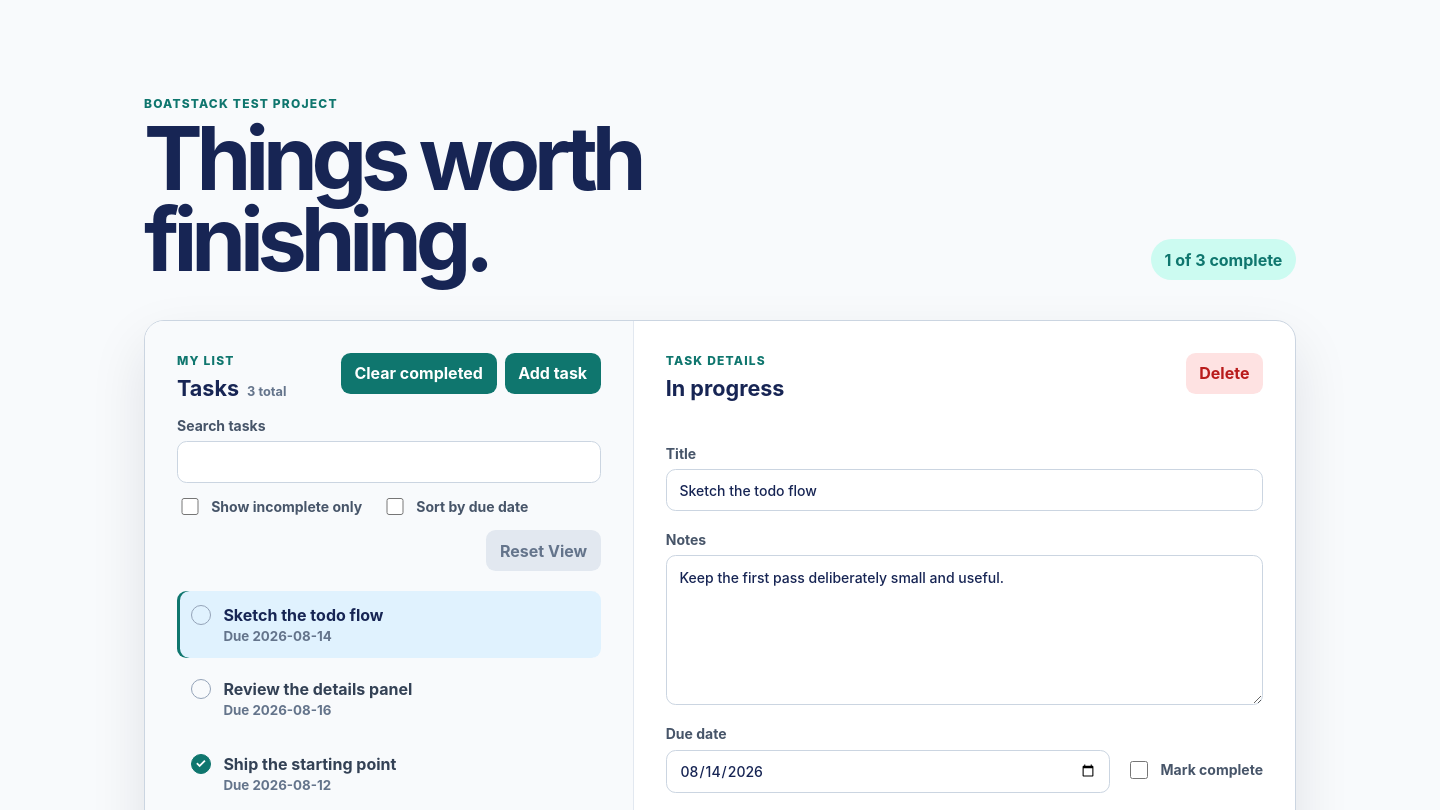
Scenario: App › enables resetting when either view control is active
Click the checkbox labelled "Show incomplete only".
click(190, 507)  # box [181,498,199,515]
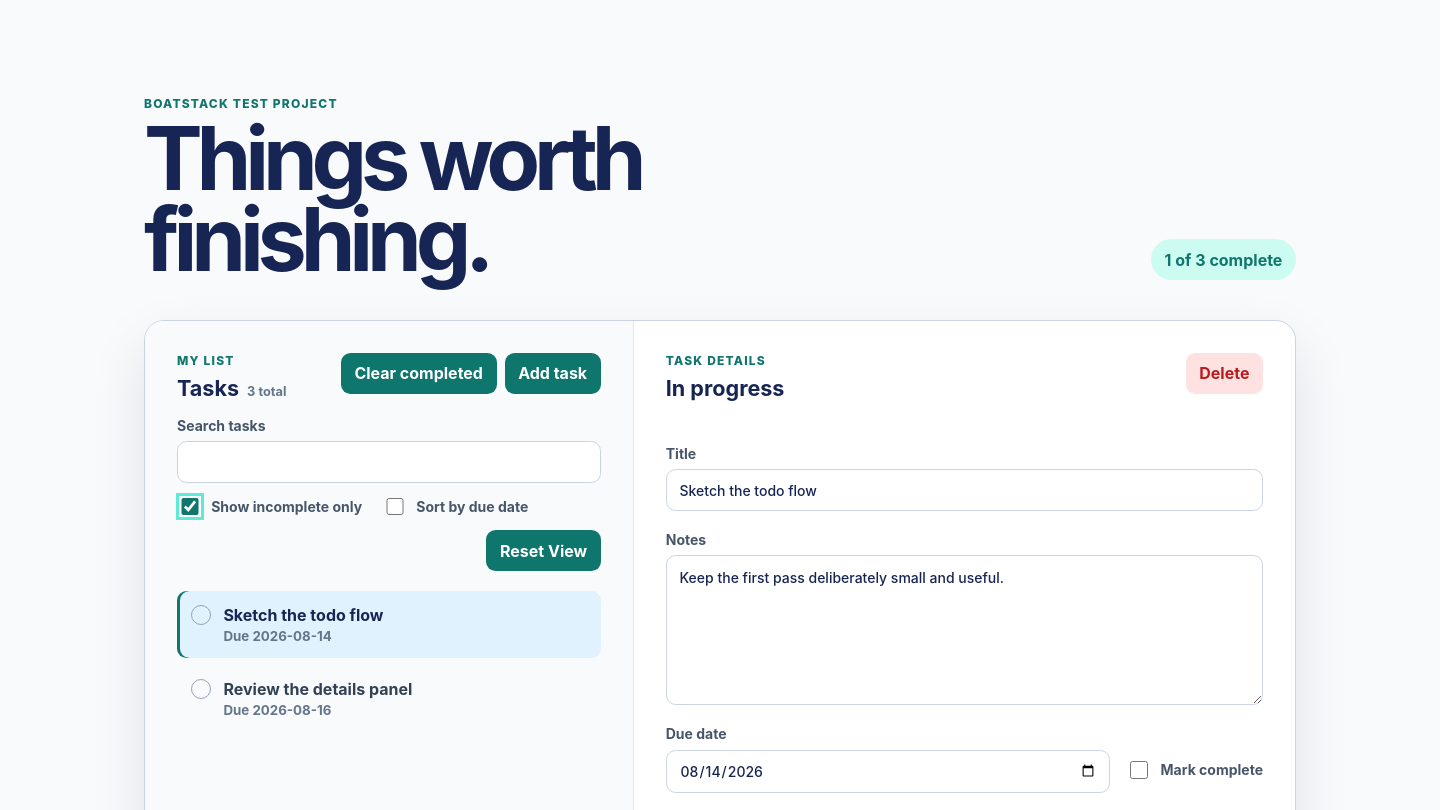
Expected: the button "Reset View" is enabled, [486,530,601,571]
Click the checkbox labelled "Show incomplete only".
click(190, 507)  # box [181,498,199,515]
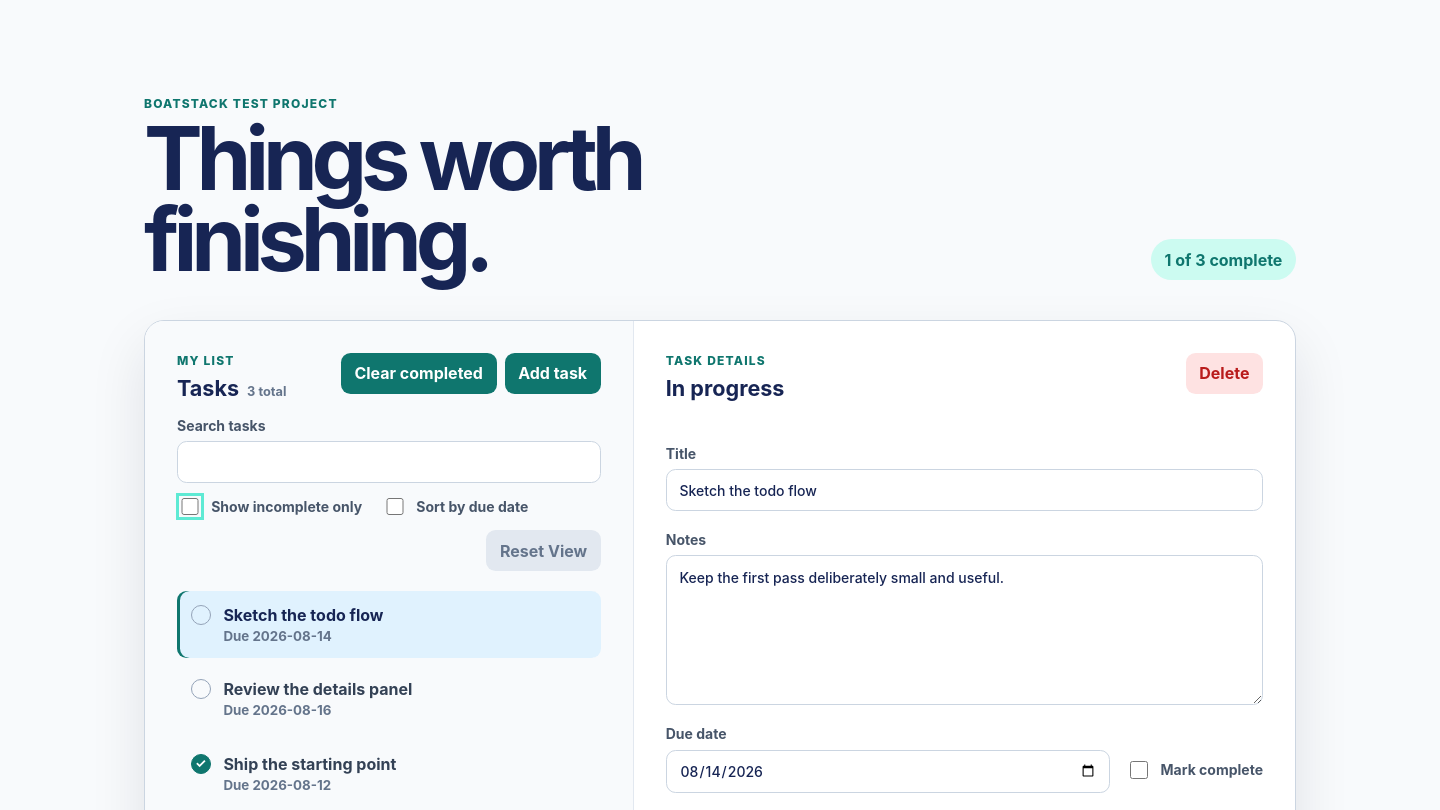
Click the checkbox labelled "Sort by due date".
click(395, 507)  # box [386,498,404,515]
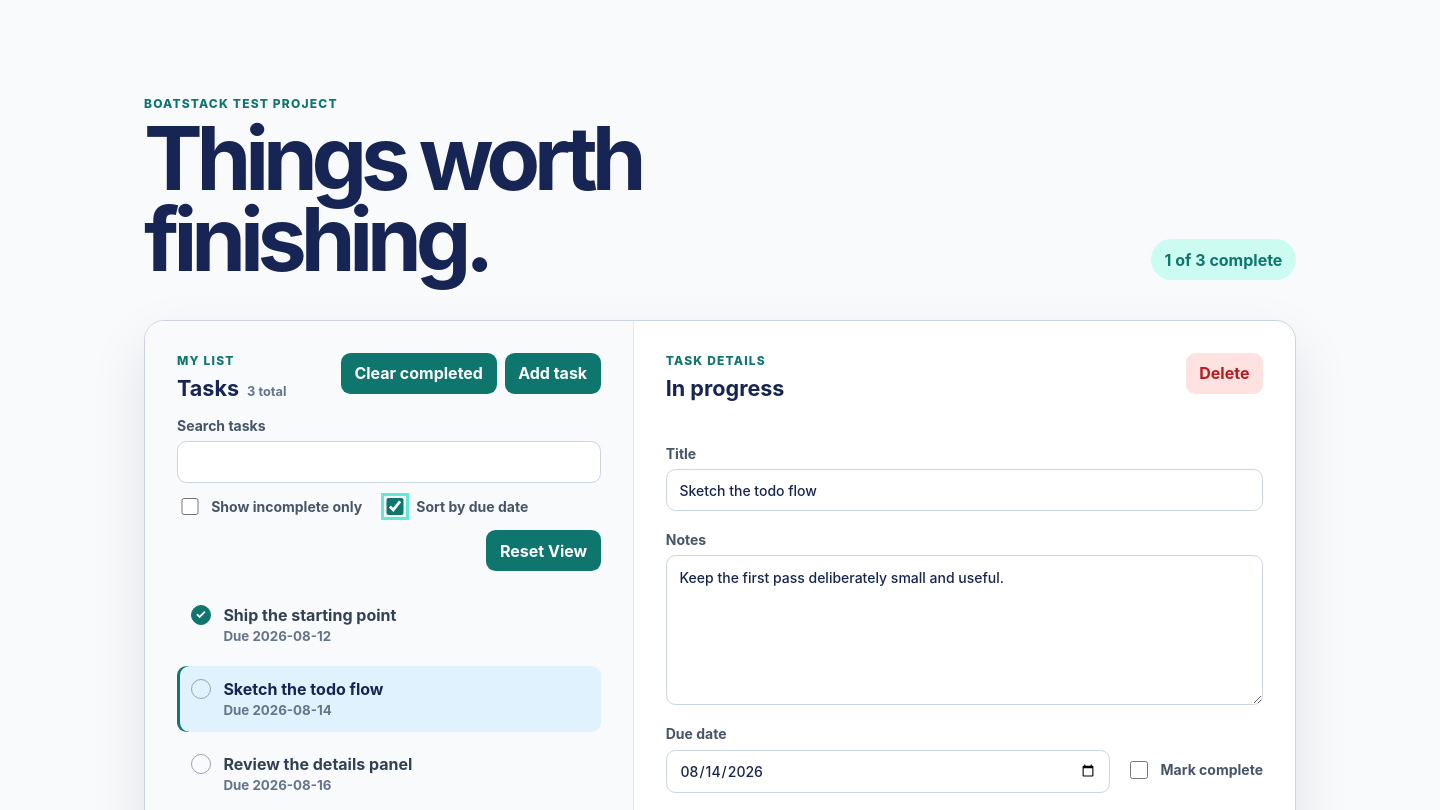
Expected: the button "Reset View" is enabled, [486,530,601,571]
